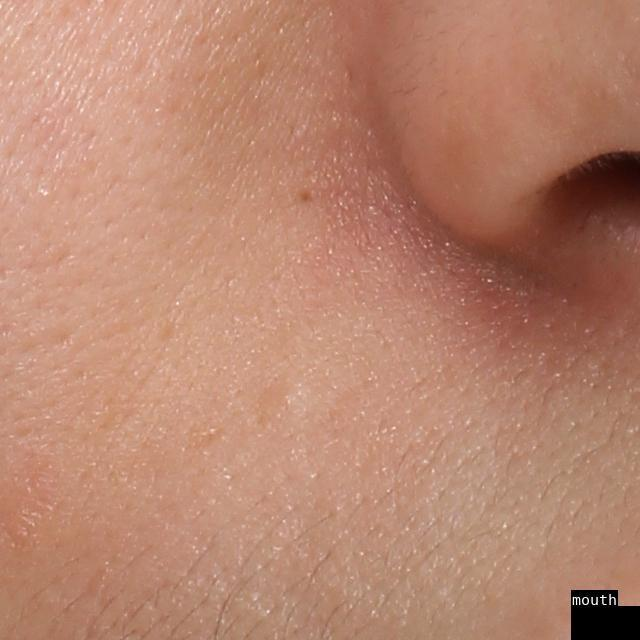comedo: (271, 377, 309, 422)
